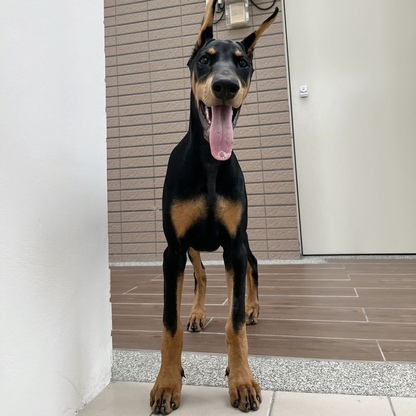doberman: (150, 8, 272, 415)
